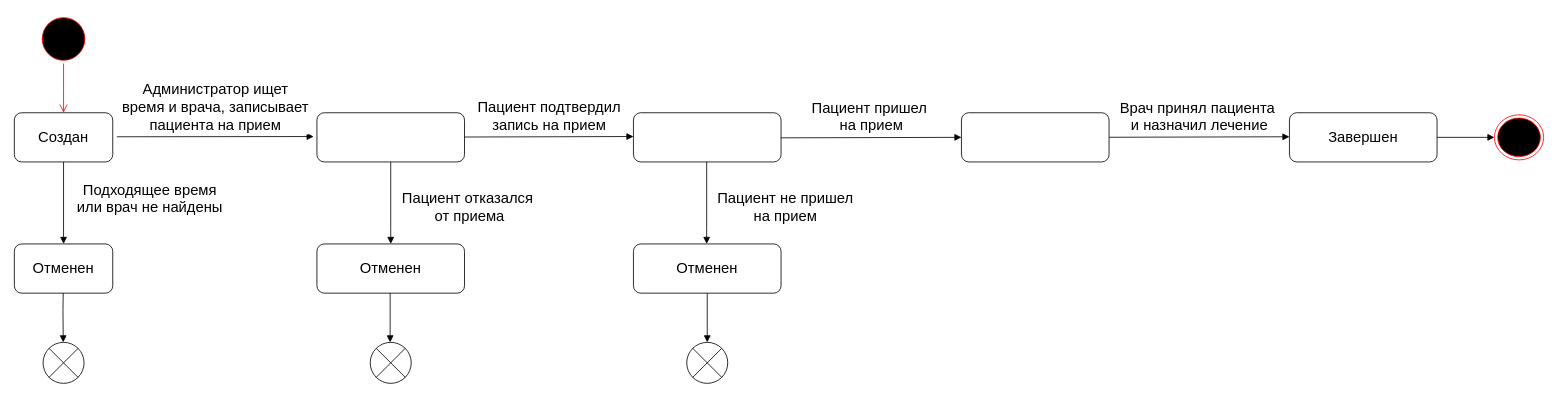
Image size: 1558x398. Some labels were removed from this diagram. The centre of each missing label's shape, as x and y in pixels:
"В работе" belongs at point 1035,137.
"Ожидает подтверждения" belongs at point 390,137.
"Подтвержден" belongs at point 707,137.
